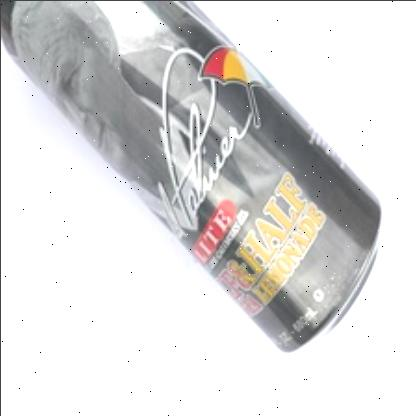Can: (0, 0, 382, 354)
